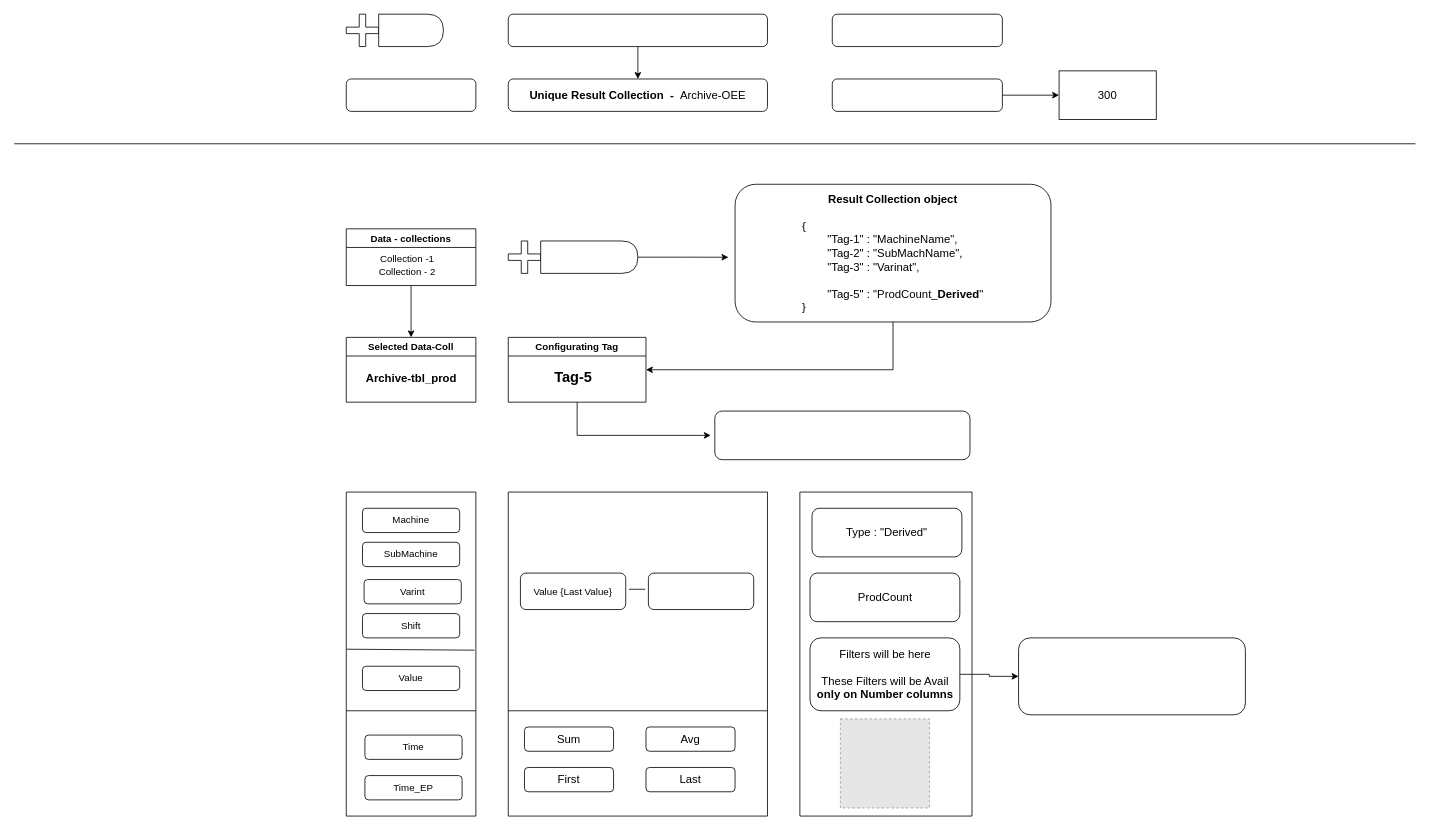
This 1430x830 diagram has some shape labels left out. Grey dashed boxes stand in for pictures. The shapes that lost their labels are listed below. From the top down, each one's centre as x and y in pixels, then its label:
At [410,30]: "ADD".
At [637,30]: "Unique Formula Name - Mahle-Pune-OEE".
At [916,30]: "Interval Configuration".
At [410,94]: "SAVE & PROCEED".
At [916,94]: "How much secs ?".
At [589,256]: "Result Tag".
At [842,435]: "Value{ Last } - Value { First }".
At [701,591]: "Value {First Value}".
At [1131,676]: "Reset in product count needs to be handled by custom changes only in this case".
